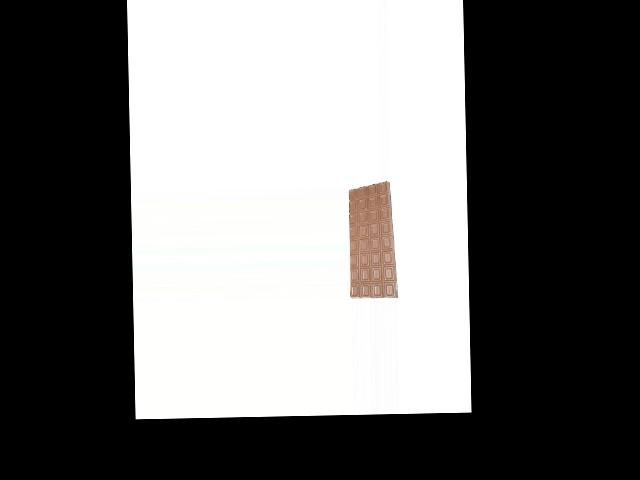chocolate: (347, 179, 396, 300)
